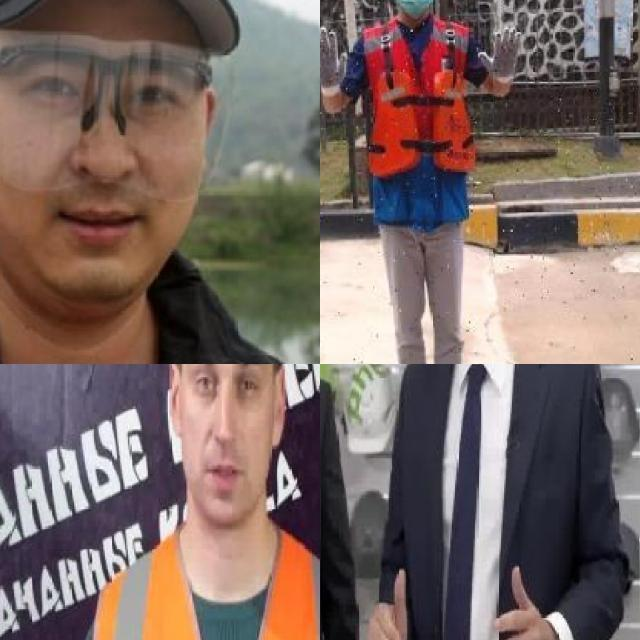apron: (475, 27, 521, 84), (320, 27, 349, 98)
